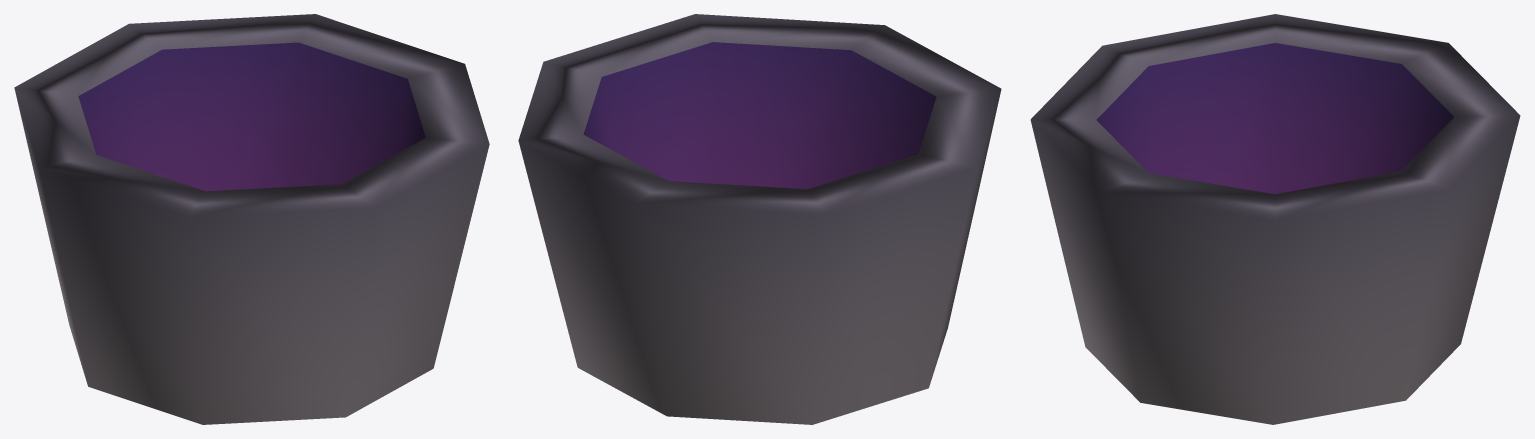
The model's file is GaryCannonTopCollider.glb.
The picture shows the model from 3 angles, left to right: view 1: azimuth 30°, elevation 25°; view 2: azimuth 150°, elevation 25°; view 3: azimuth 270°, elevation 25°; orthographic projection. The views are drawn at different scales.
Visible parts, largest first — view 1: GaryCannonTopCollider; view 2: GaryCannonTopCollider; view 3: GaryCannonTopCollider.
Part boxes in pixels (box(x1,y1,x2,y2)): GaryCannonTopCollider: box(14, 14, 489, 424); GaryCannonTopCollider: box(518, 14, 1001, 424); GaryCannonTopCollider: box(1030, 14, 1520, 424).
Bounding box in the file's own units: 1.4 × 0.7688 × 1.4.
